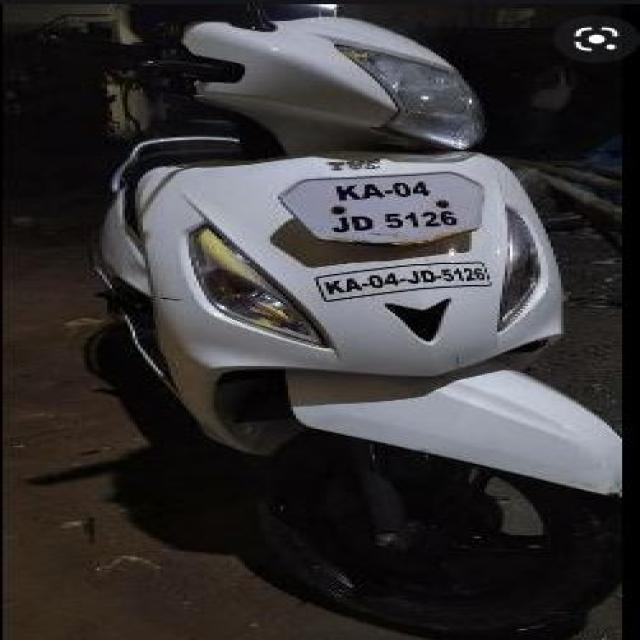license_plate: (276, 169, 484, 245)
